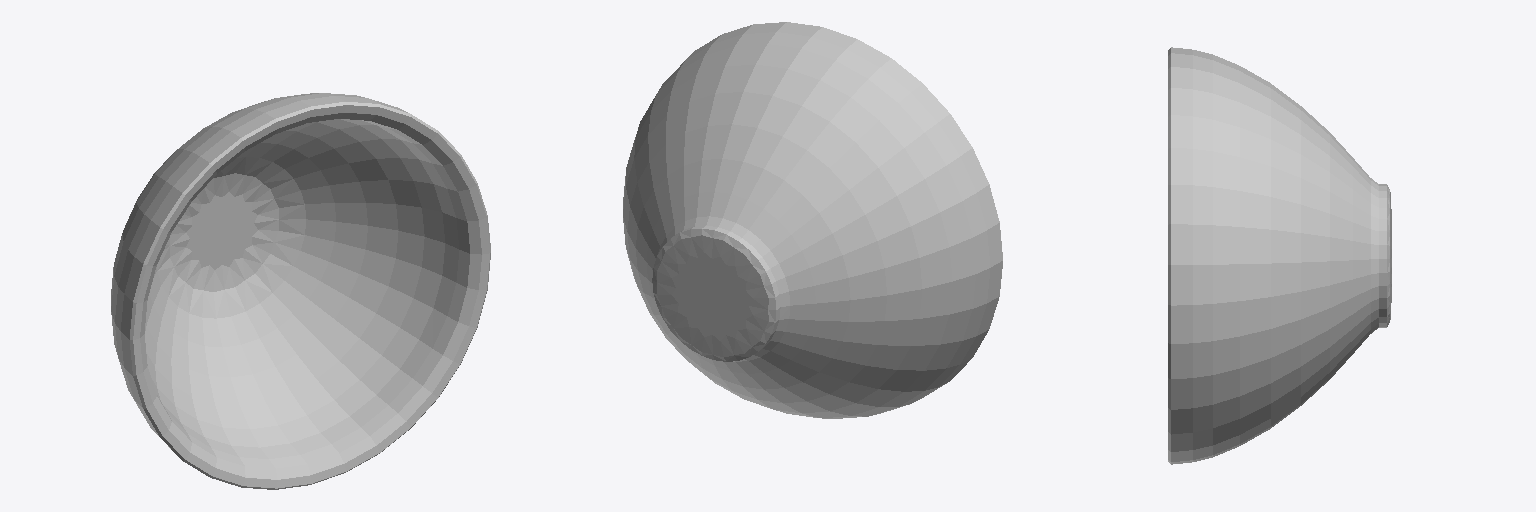
Rendered from Cup3.obj.
3 views of the same model, side by side, from view 1: azimuth 30°, elevation 25°; view 2: azimuth 150°, elevation 25°; view 3: azimuth 270°, elevation 25° (orthographic).
Parts seen in each view (by area): view 1: Cup3_Cylinder.004; view 2: Cup3_Cylinder.004; view 3: Cup3_Cylinder.004.
Boxes of the visible parts, box(x1,y1,x2,y2) form: Cup3_Cylinder.004: box(111, 93, 490, 489); Cup3_Cylinder.004: box(623, 22, 1002, 418); Cup3_Cylinder.004: box(1168, 47, 1391, 464).
Size of the model in its own units: 0.4973 by 0.4973 by 0.2655.